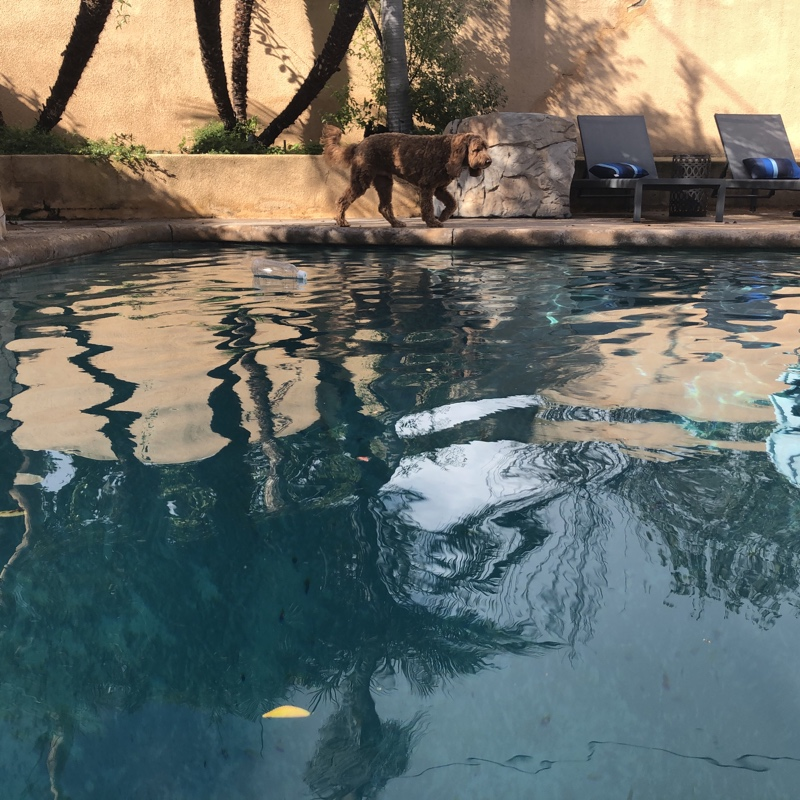Plastic Bottle: (250, 257, 310, 283)
